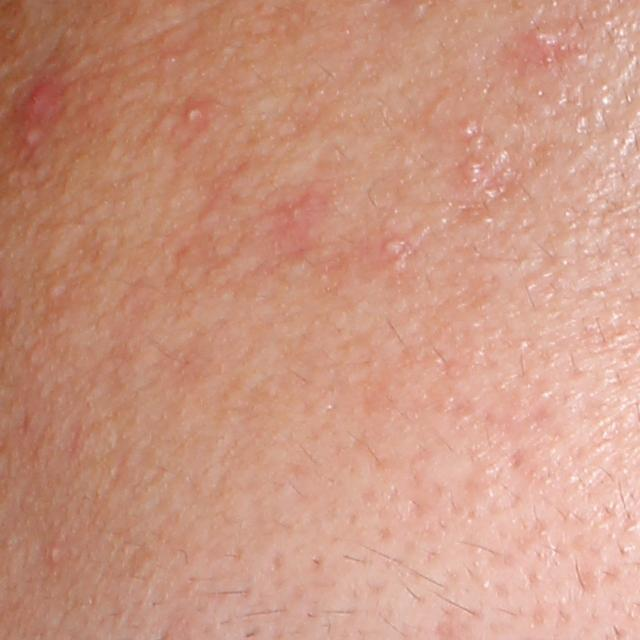comedo: (458, 118, 477, 142), (44, 542, 61, 562), (47, 282, 63, 301)
papule: (15, 82, 59, 124), (524, 24, 559, 54), (460, 157, 488, 186), (380, 237, 407, 260)
